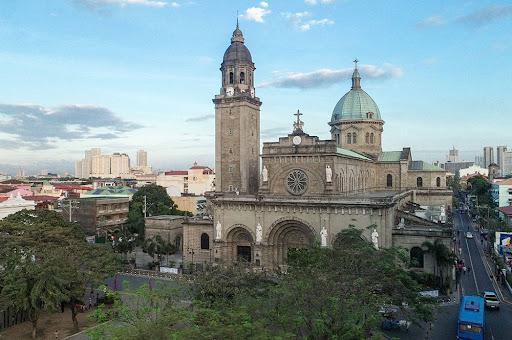manila_cathedral_church_intramuros_manila: (203, 5, 390, 279)
